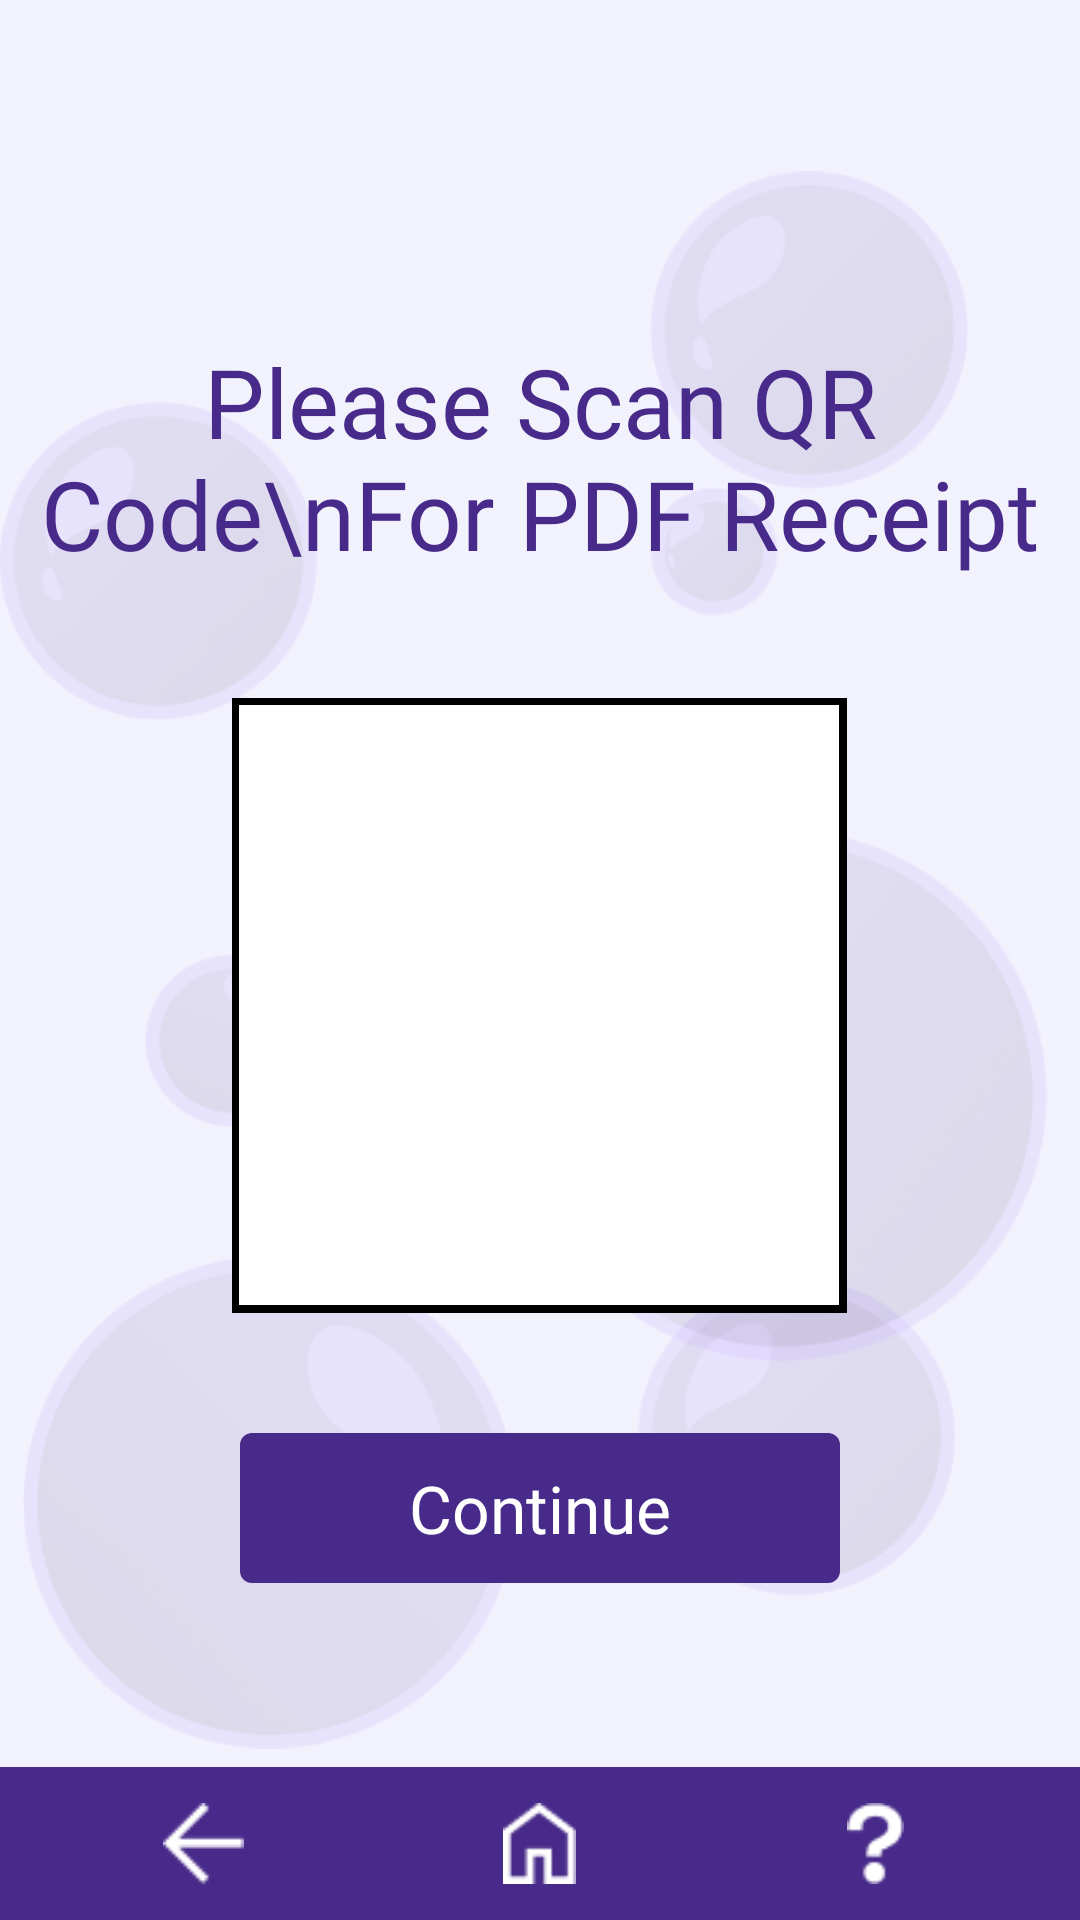

Screen size 1080x1920. Icon name, then its center in pixels as [x,y]:
Back Button: [203,1843]
Help Button: [875,1843]
Home Button: [539,1843]
